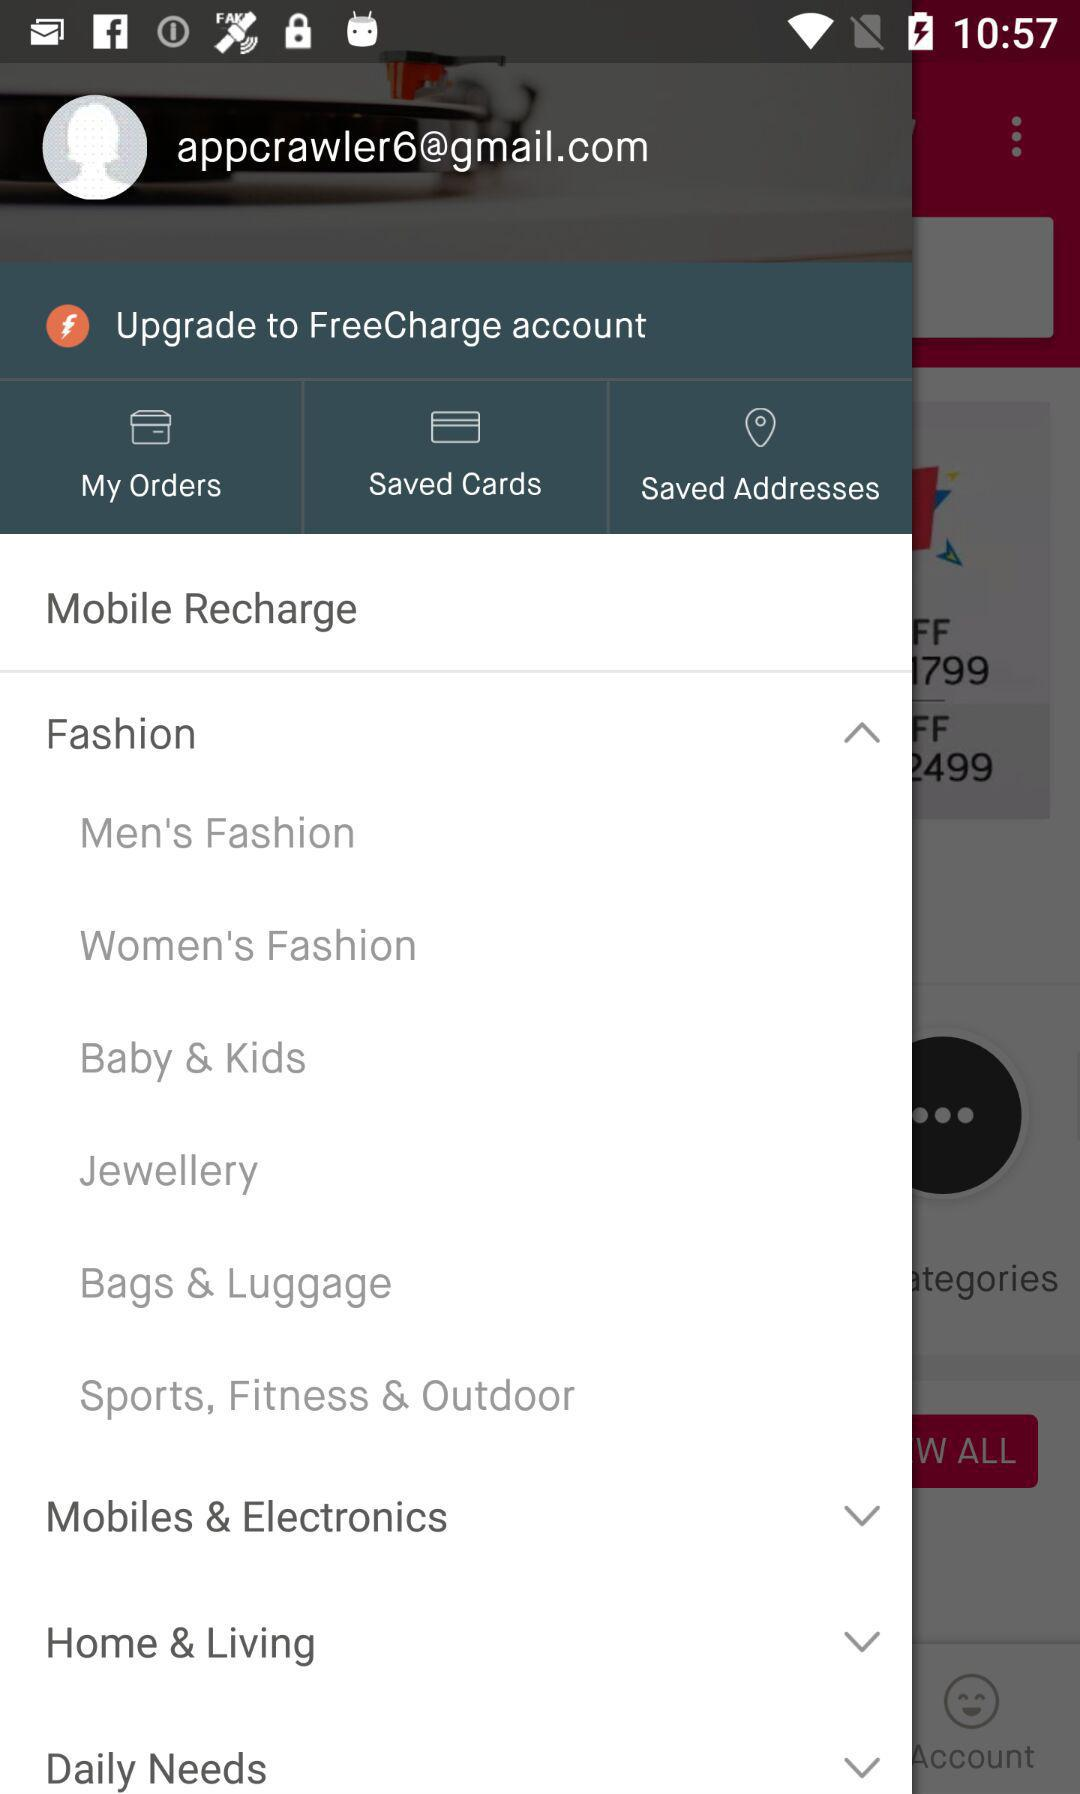Drawer: (1, 64, 912, 1794)
Icon: (44, 95, 149, 201), (843, 1757, 881, 1780), (843, 1631, 881, 1654), (844, 1504, 881, 1527), (844, 721, 881, 745)
Image: (45, 304, 92, 350)
Text: (79, 1378, 577, 1422), (177, 129, 650, 174), (118, 311, 647, 349), (47, 1498, 448, 1535), (47, 591, 359, 636), (82, 1266, 393, 1310), (79, 926, 416, 964), (47, 1624, 316, 1668), (82, 1039, 307, 1085), (81, 815, 355, 851), (47, 1750, 268, 1791), (79, 1153, 260, 1197), (49, 716, 196, 751)
TextButton: (609, 379, 913, 536), (304, 379, 609, 536), (1, 379, 304, 536)
UpperTaskBar: (1, 1, 1080, 64)
